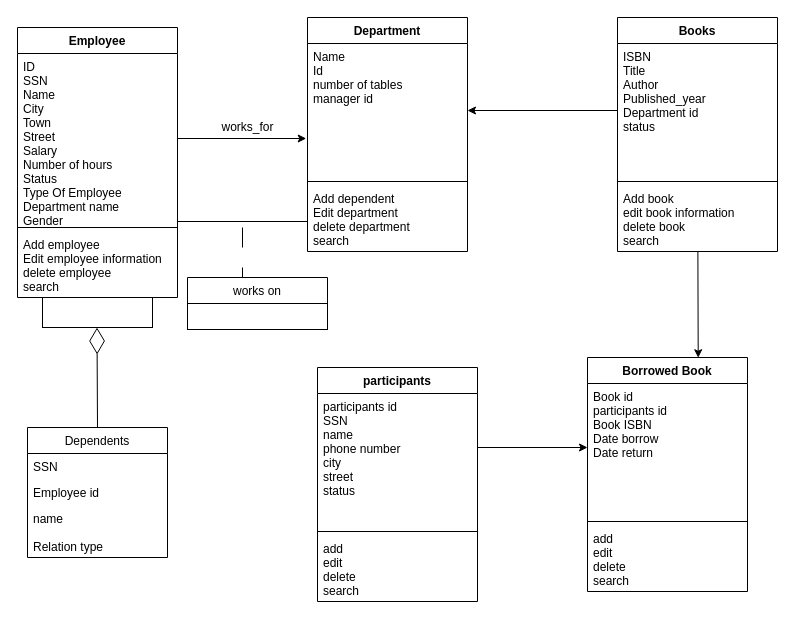
Some shapes in this 795 by 622 pixel diagram are drawn without their labels. The shapes that lost their labels are listed below. From the top down, each one's centre as x and y in pixels, then its label:
(97,312): dependent_name
(257,316): Number of hours
